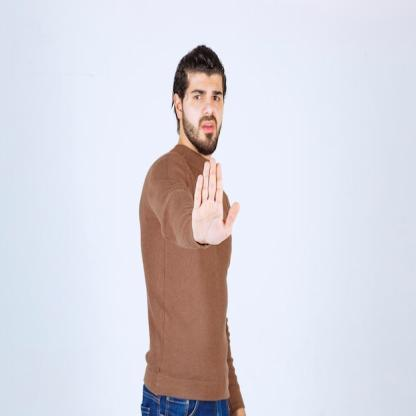stop: (190, 153, 242, 249)
